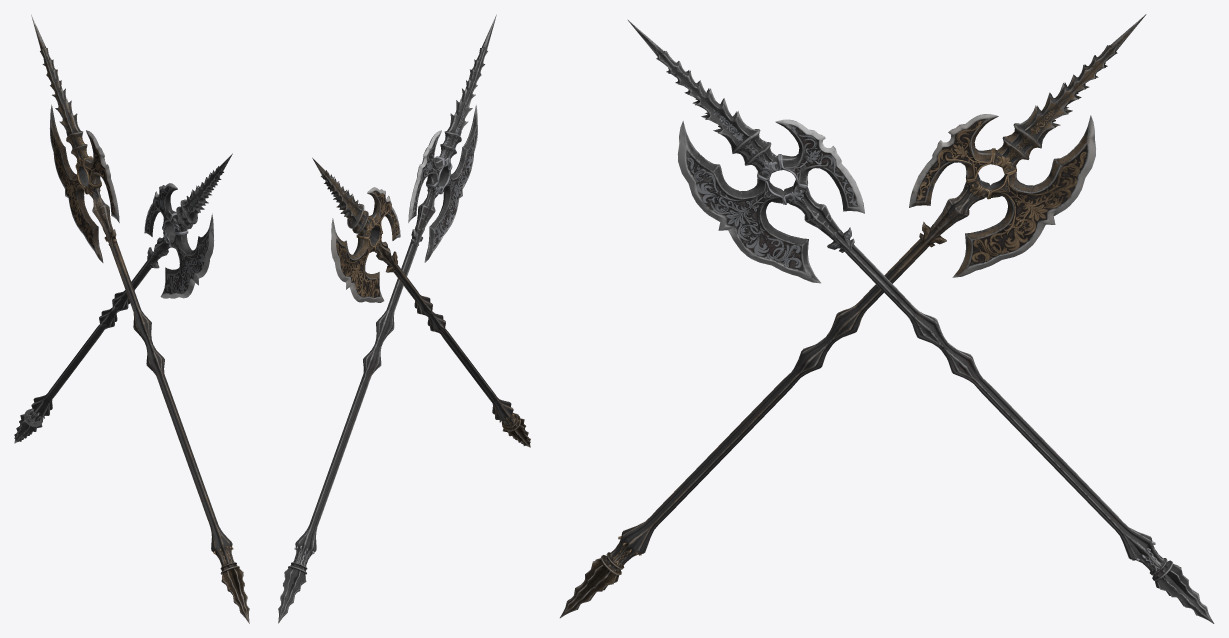
Rendered from SF_Dark_halberdNakedSingularity.fbx.
3 views of the same model, side by side, from view 1: azimuth 30°, elevation 25°; view 2: azimuth 150°, elevation 25°; view 3: azimuth 270°, elevation 25° (orthographic). The views are drawn at different scales.
Parts seen in each view (by area): view 1: SK_Dark_halberd, SK_Dark_halberd.001; view 2: SK_Dark_halberd.001, SK_Dark_halberd; view 3: SK_Dark_halberd.001, SK_Dark_halberd.
Boxes of the visible parts, left/top/right/bottom form: SK_Dark_halberd: left=31, top=14, right=249, bottom=623; SK_Dark_halberd.001: left=14, top=153, right=232, bottom=443; SK_Dark_halberd.001: left=278, top=14, right=496, bottom=623; SK_Dark_halberd: left=312, top=157, right=530, bottom=447; SK_Dark_halberd.001: left=627, top=19, right=1214, bottom=623; SK_Dark_halberd: left=560, top=14, right=1146, bottom=618.
Size of the model in its own units: 13.16 by 192 by 188.
2 materials, 2 textured.
